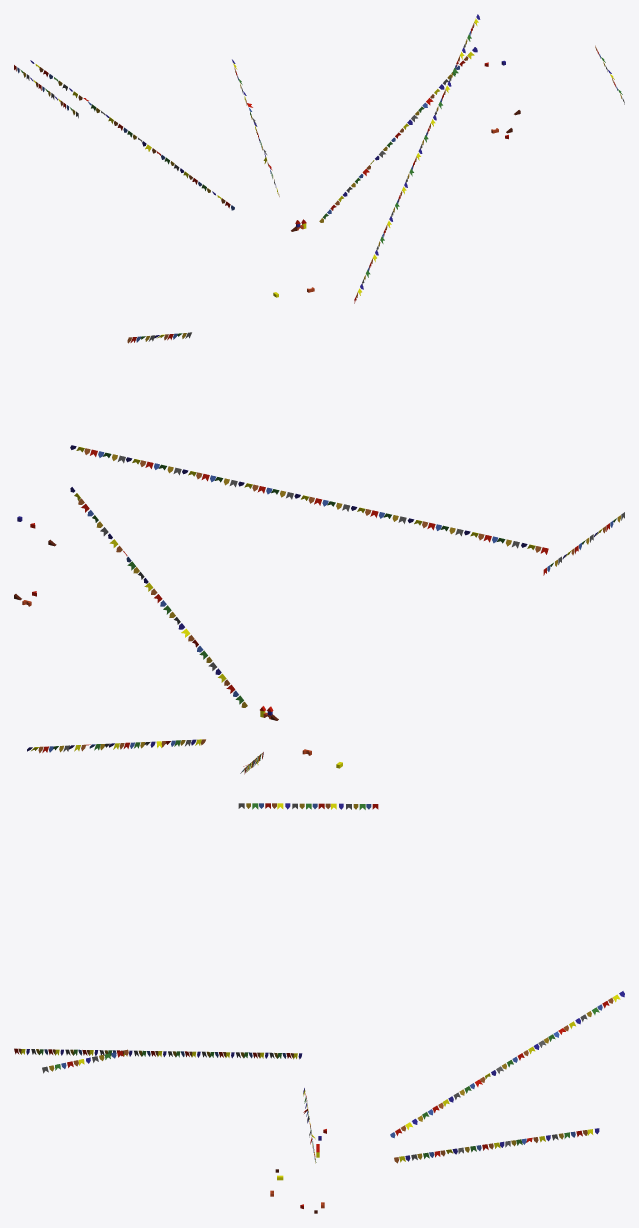
Rendered from Extras.fbx.
3 renders of one model, top to bottom at view 1: azimuth 30°, elevation 25°; view 2: azimuth 150°, elevation 25°; view 3: azimuth 270°, elevation 25°, orthographic. The views are drawn at different scales.
Parts seen in each view (by area): view 1: Bandeira2, Bandeira1, Bandeira4; view 2: Bandeira2, Bandeira1, Bandeira3; view 3: Bandeira2, Bandeira4, Bandeira3, Bandeira5.
Boxes of the visible parts, box(x1,y1,x2,y2) form: Bandeira2: box(354, 14, 480, 303); Bandeira1: box(319, 47, 477, 222); Bandeira4: box(30, 60, 234, 210); Bandeira2: box(70, 445, 548, 554); Bandeira1: box(70, 487, 247, 707); Bandeira3: box(27, 739, 205, 753); Bandeira2: box(14, 1048, 302, 1059); Bandeira4: box(390, 991, 624, 1138); Bandeira3: box(394, 1128, 599, 1163); Bandeira5: box(238, 803, 378, 809).
Size of the model in its own units: 21389 by 10880 by 22794.
